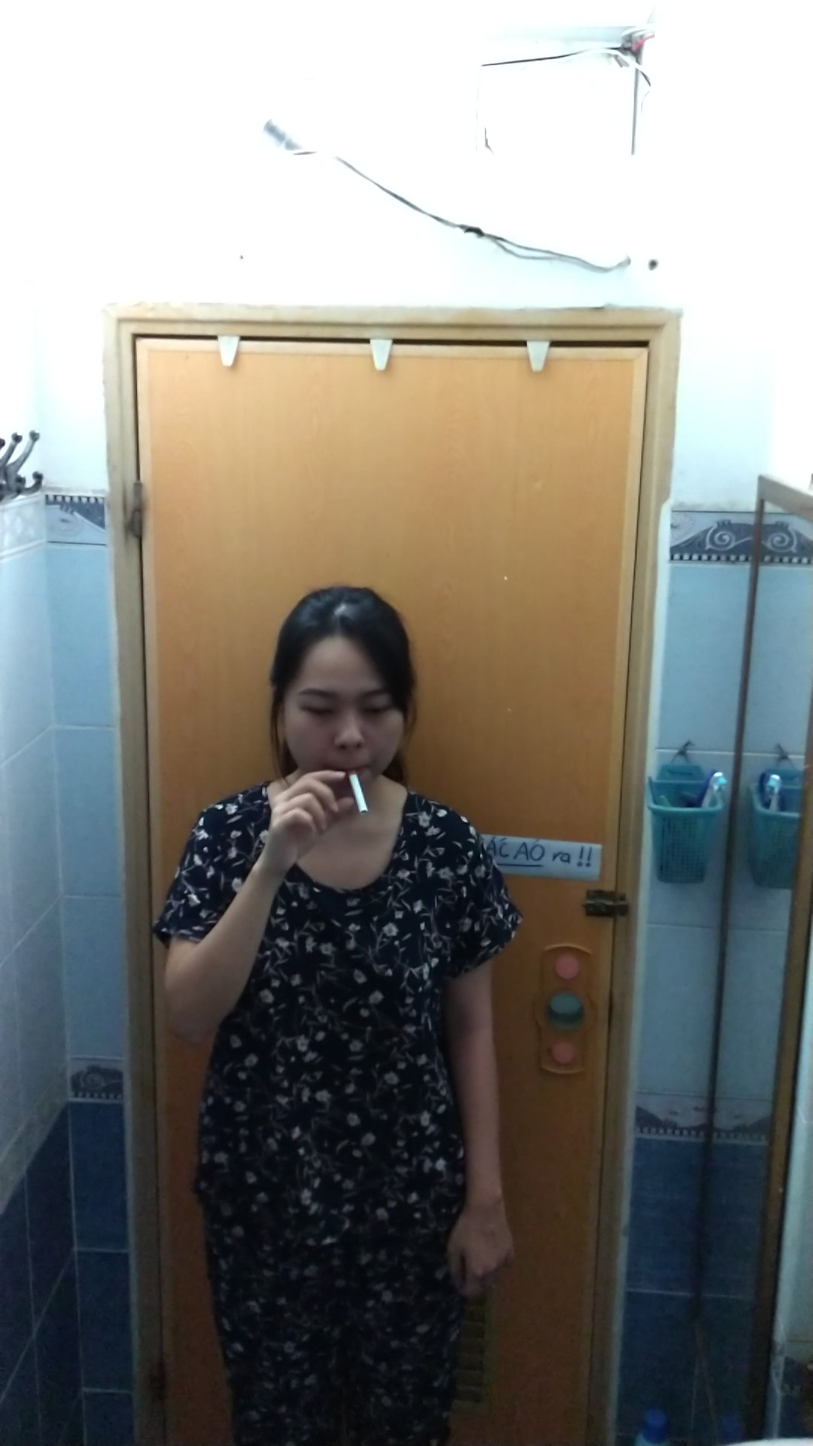cigarette: (345, 774, 373, 817)
person: (154, 581, 543, 1446)
